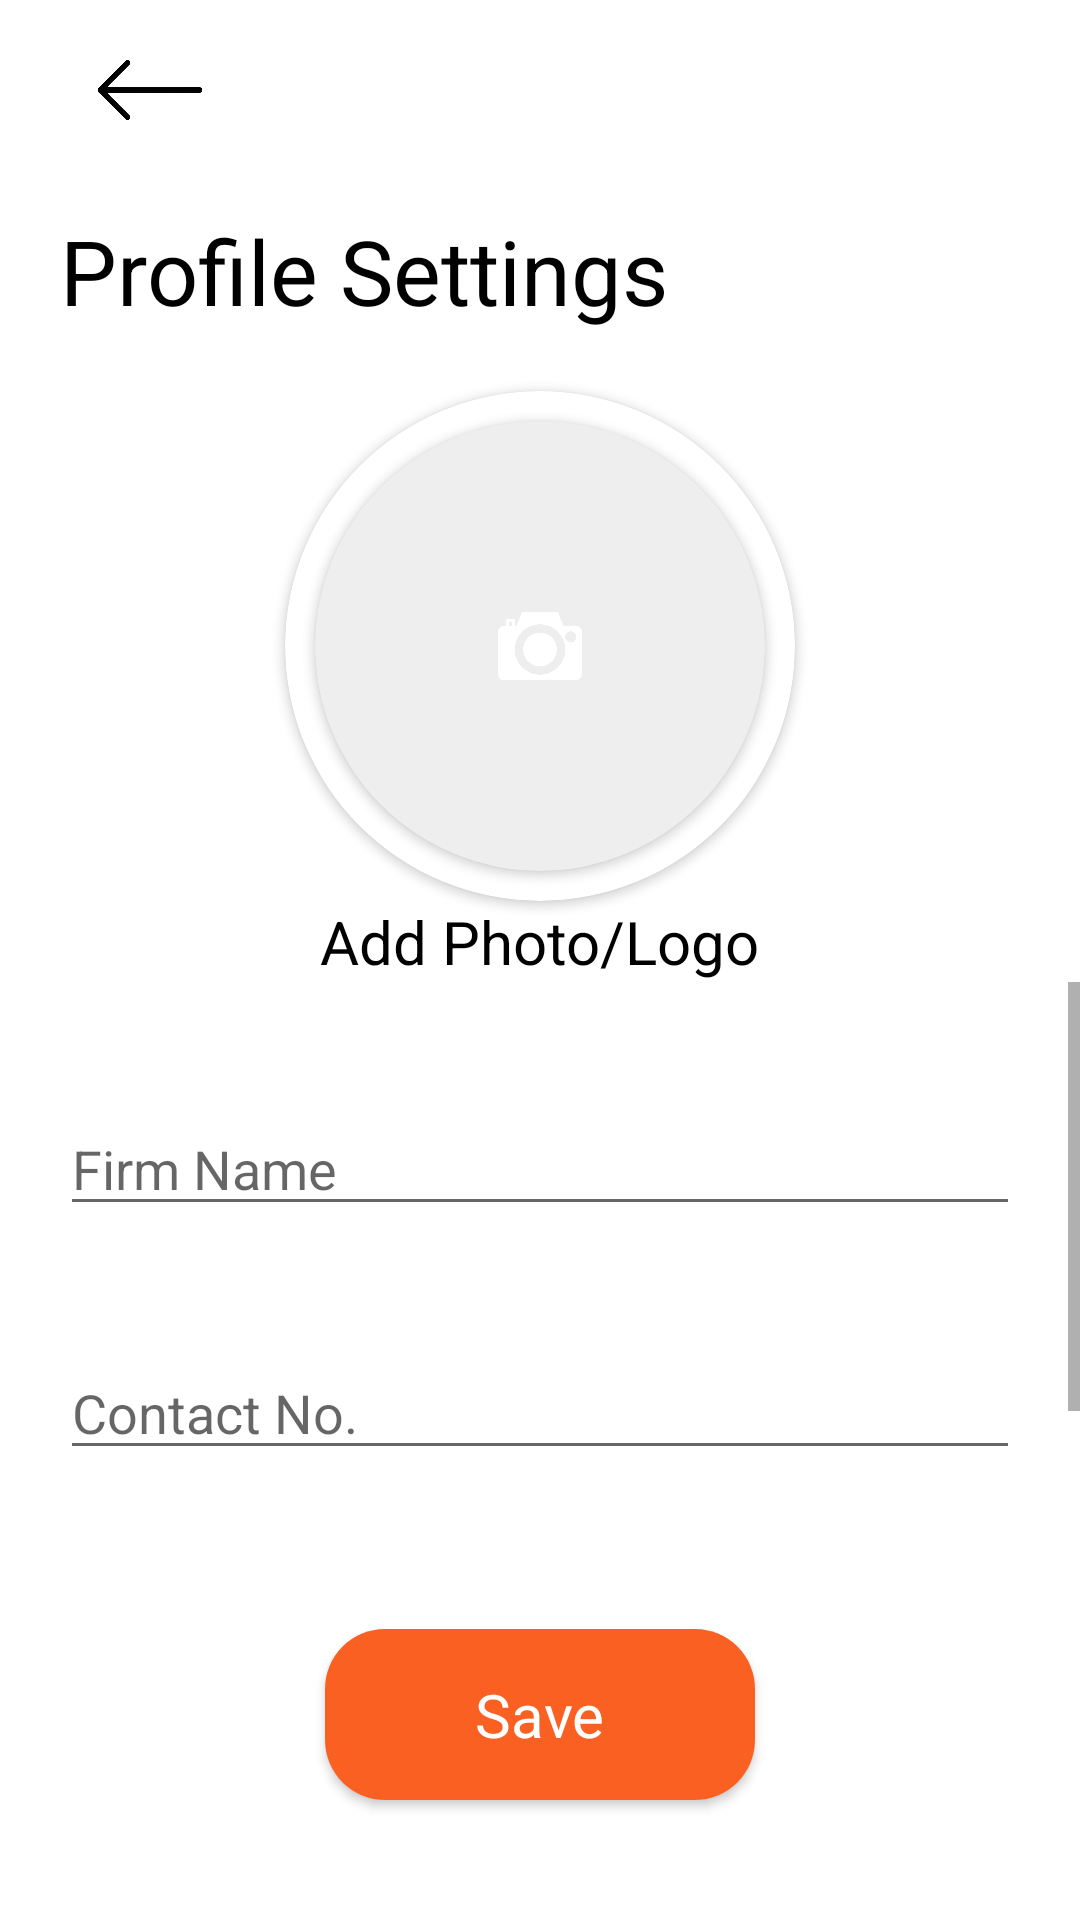

Screen size 1080×1920. Icon name, then its center in pixels as (x=x, y=y):
leftarrow: (x=150, y=90)
